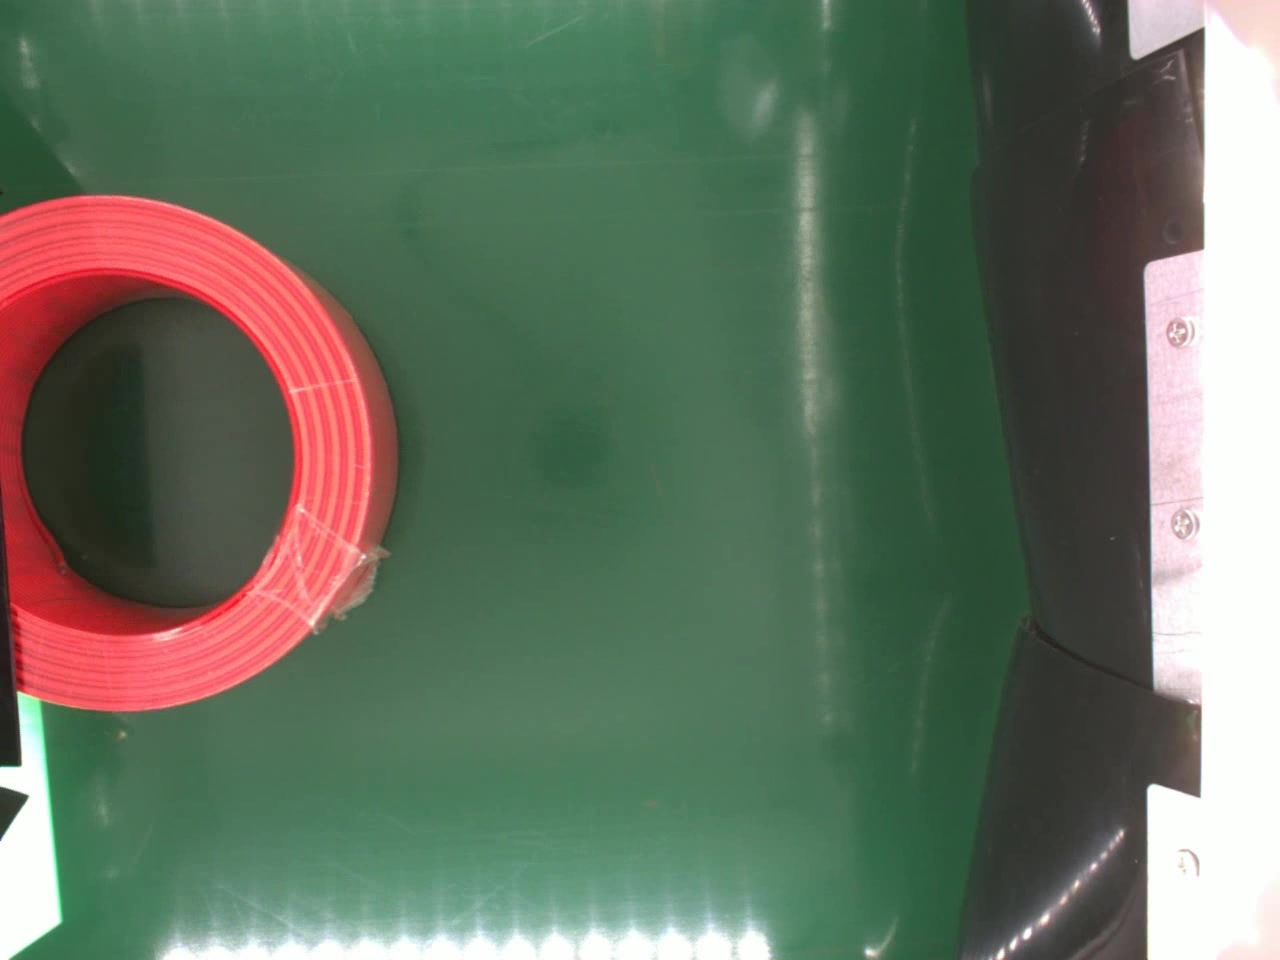red: (0, 191, 404, 714)
